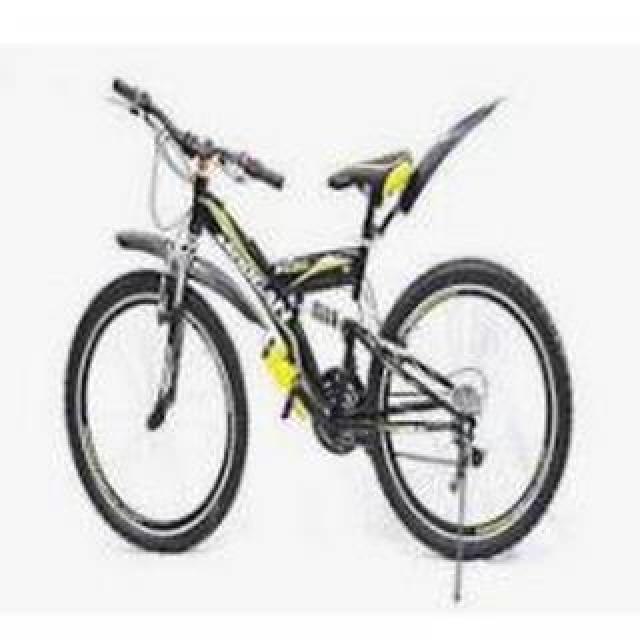Person: (50, 79, 570, 561)
